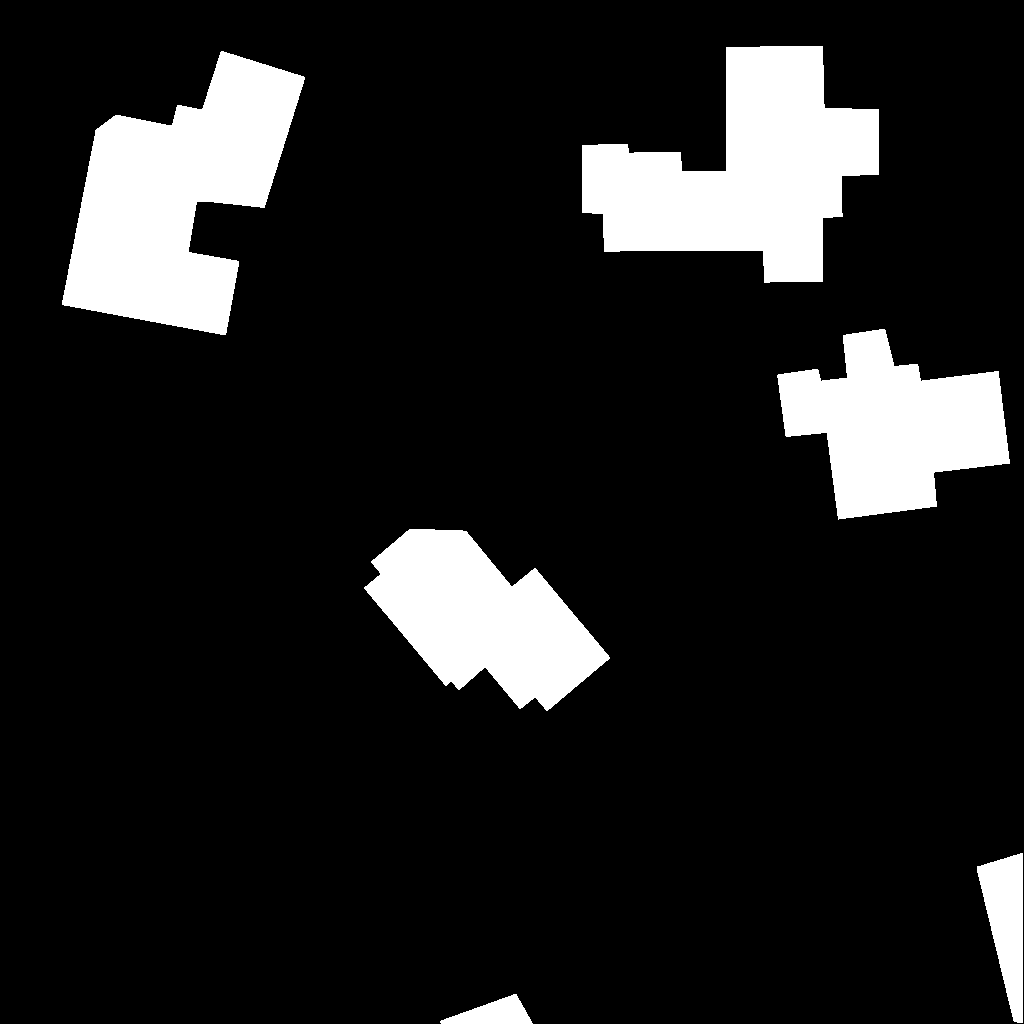building: (582, 46, 879, 283), (62, 51, 306, 336), (364, 529, 611, 712), (777, 329, 1011, 520), (977, 853, 1024, 1024), (440, 994, 534, 1024)
